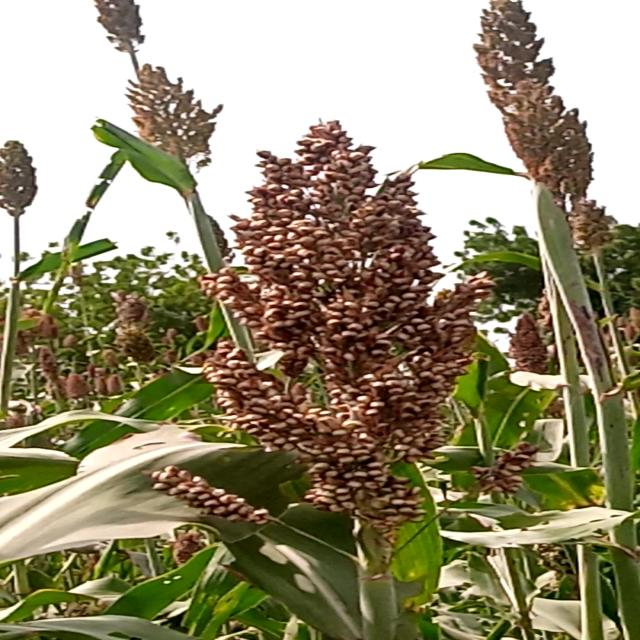RipeSorghum: (199, 115, 478, 545)
